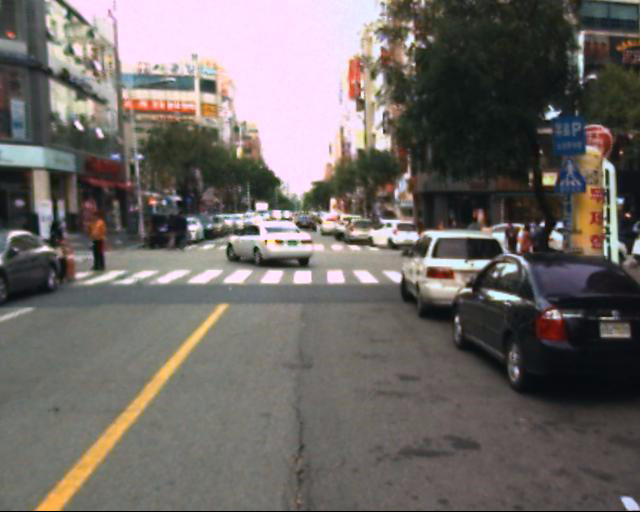person: (82, 202, 118, 278), (517, 220, 541, 276), (502, 214, 525, 268)
